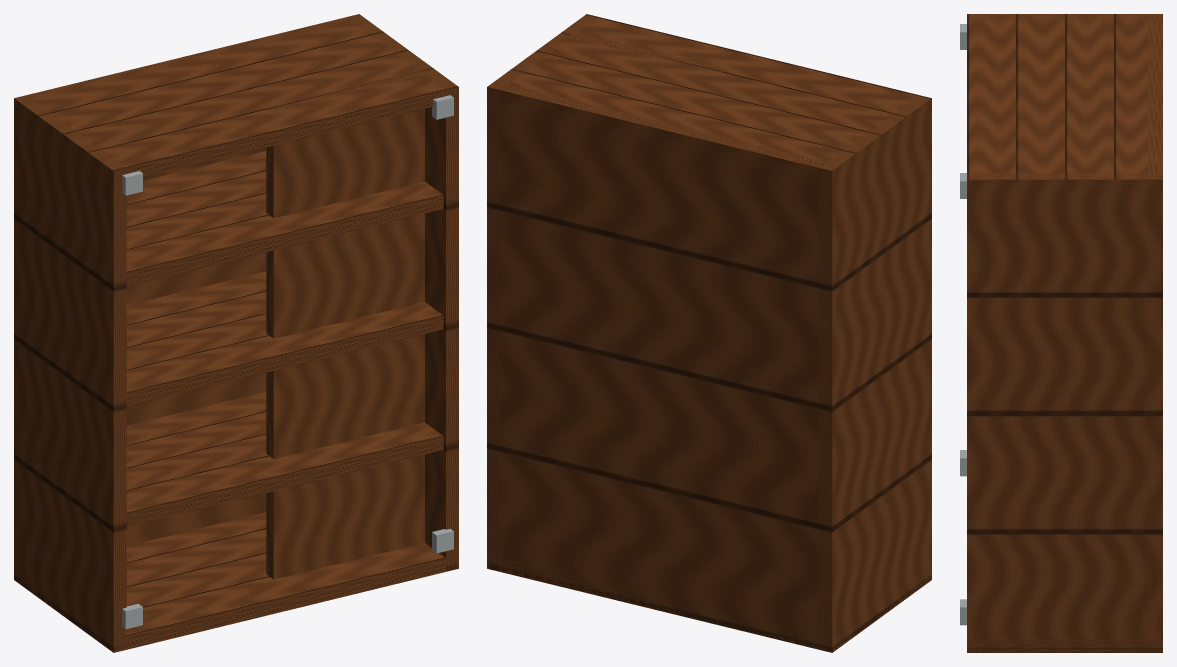
Rendered from rural-scavenging-settlements-cellar-shelving-corner-de61da22__26621.glb.
The picture shows the model from 3 angles, left to right: view 1: azimuth 30°, elevation 25°; view 2: azimuth 150°, elevation 25°; view 3: azimuth 270°, elevation 25°; orthographic projection.
Visible parts, largest first — view 1: cellar-shelving-corner; view 2: cellar-shelving-corner; view 3: cellar-shelving-corner.
Boxes of the visible parts, x1,y1,x2,y2 form: cellar-shelving-corner: (14,14,458,652); cellar-shelving-corner: (487,14,931,652); cellar-shelving-corner: (960,14,1162,652).
Bounding box in the file's own units: 1.2 × 1.6 × 0.621.
2 materials, 1 textured.
